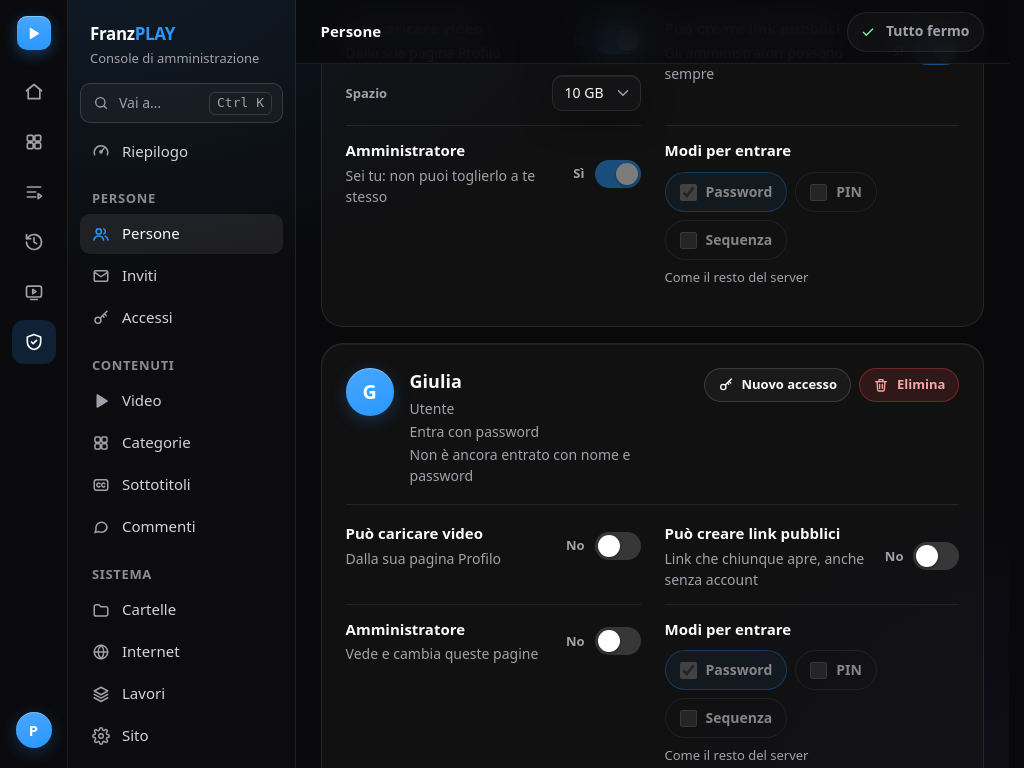
Scenario: people page › gives a new password
(page scrolled)
Step 1. Click the button "Nuovo accesso" → (777, 385), box [704, 368, 851, 402]
(page scrolled)
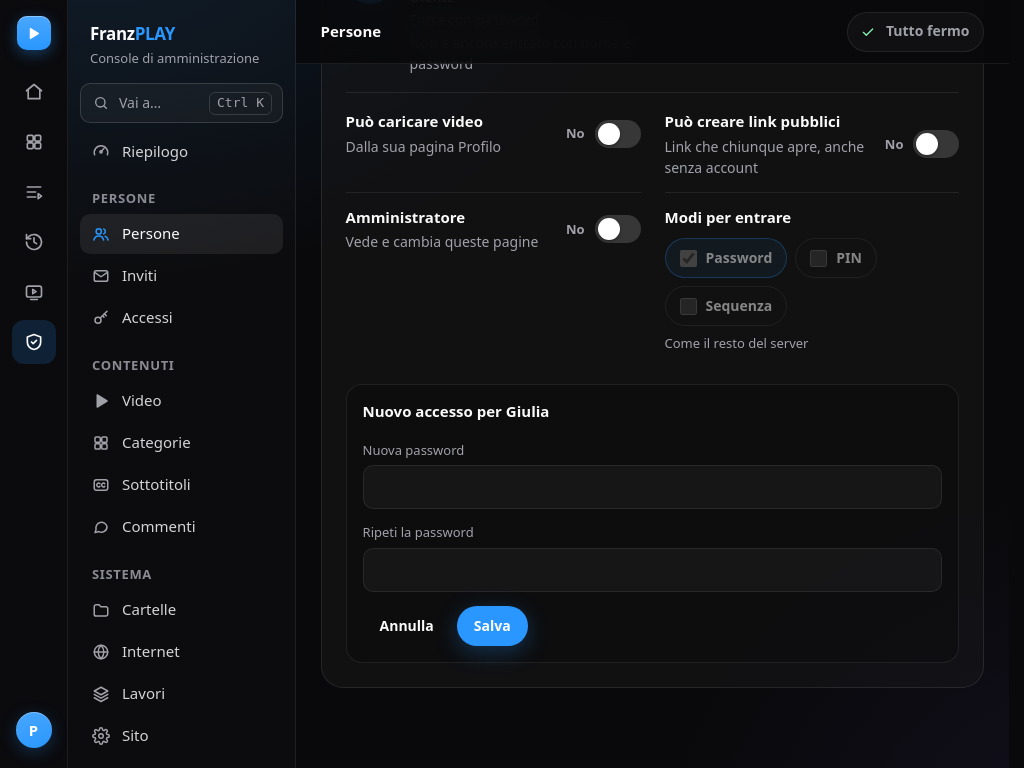
Step 2. Type "nuova-password" into the password field labelled "Nuova password" → (653, 488), box [363, 466, 942, 510]
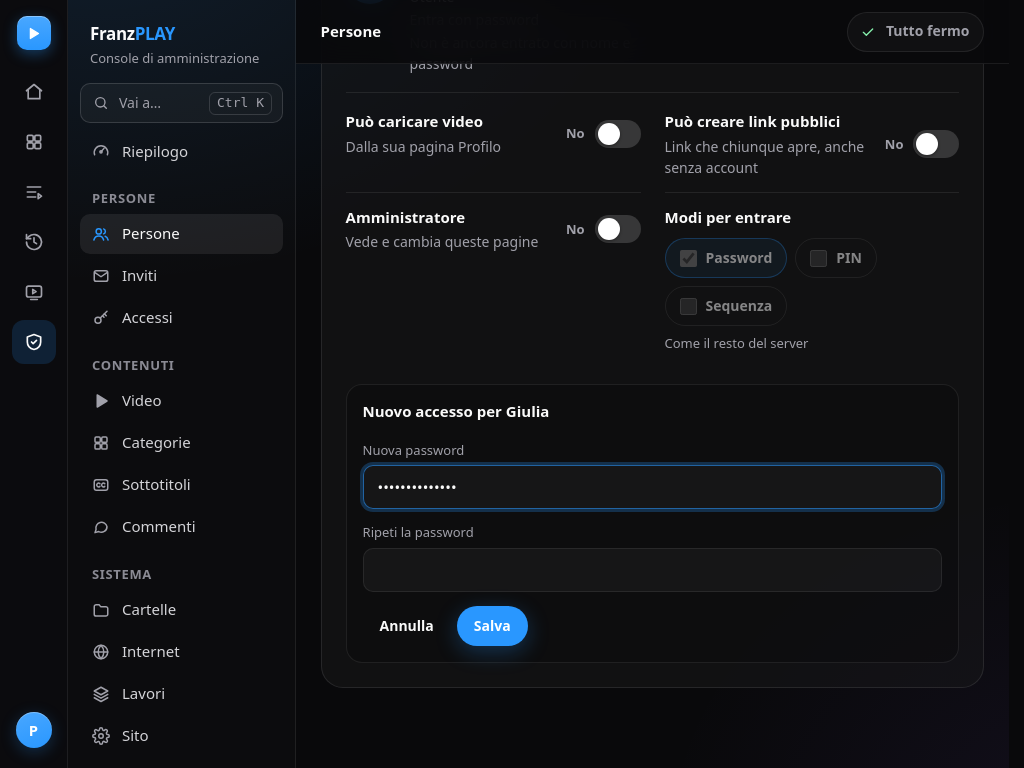
Step 3. Type "nuova-password" into the password field labelled "Ripeti la password" → (653, 570), box [363, 548, 942, 592]
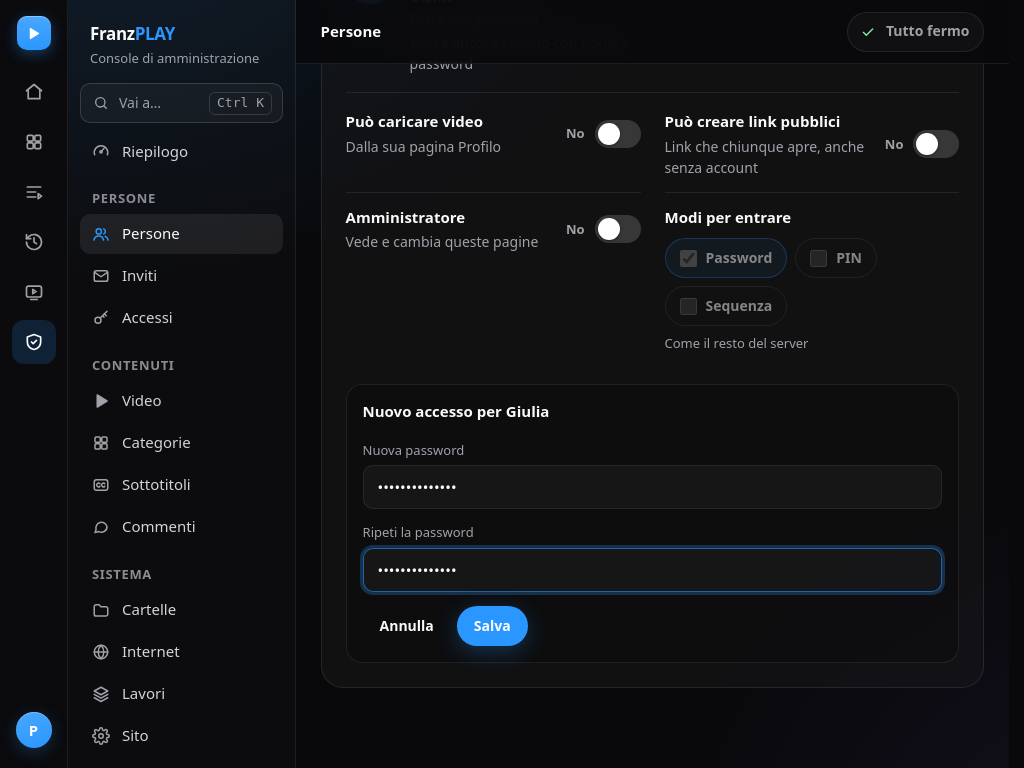
Step 4. Click the button "Salva" → (492, 626), box [457, 606, 528, 646]
(page scrolled)
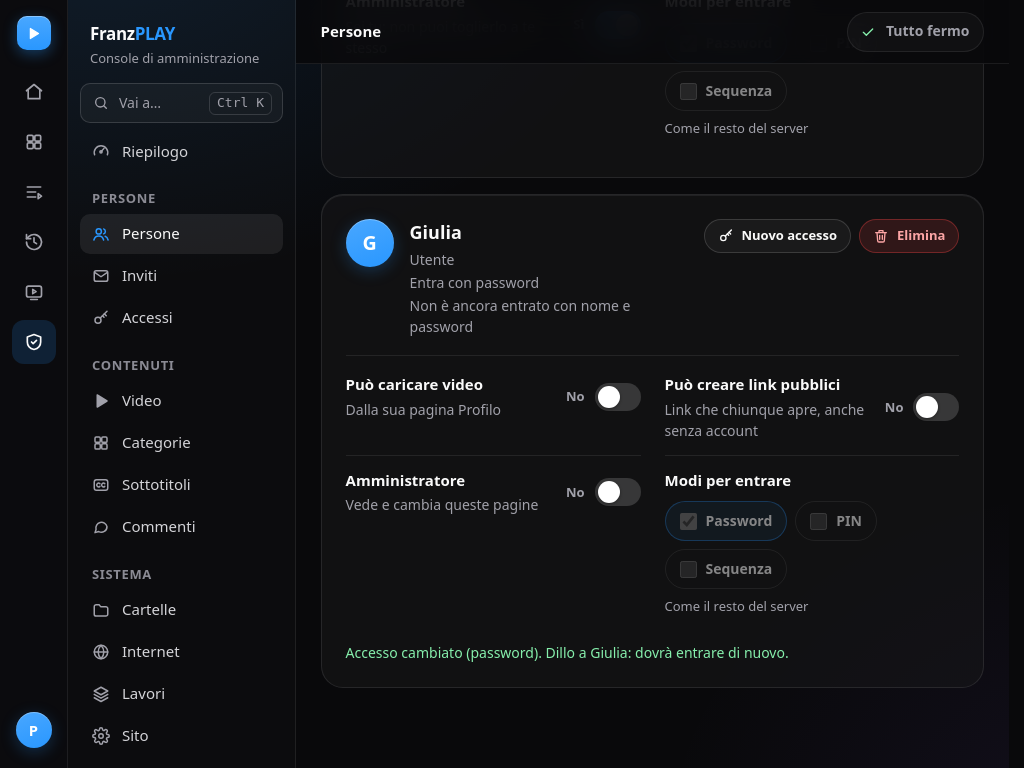
Check: the message shows "Accesso cambiato", box [346, 643, 789, 662]
